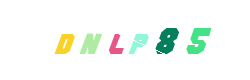5: (156, 0, 236, 80)
8: (127, 0, 207, 80)
D: (25, 0, 105, 80)
L: (76, 0, 156, 80)
N: (75, 0, 155, 80)
P: (83, 0, 163, 80)
